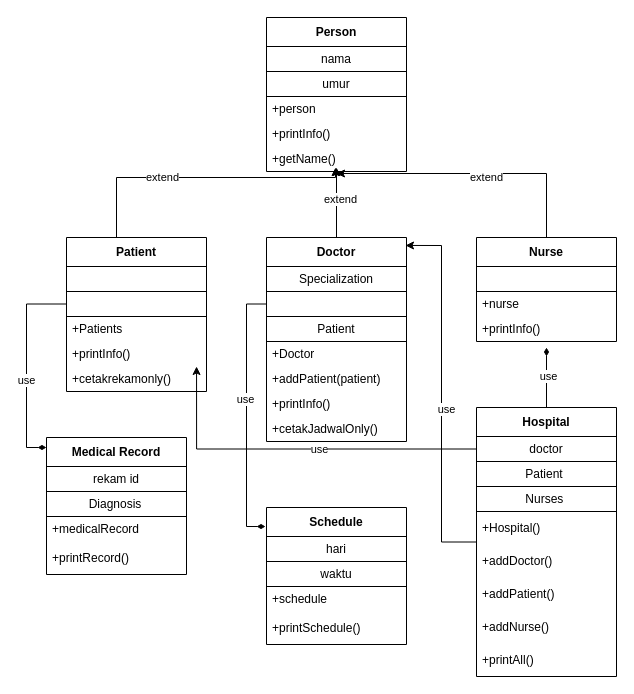
Some shapes in this 634 by 694 pixel diagram are drawn without their labels. The box of each missing label's shape, as (x1, y1, x2, y2) in pixels:
department: (476, 266, 616, 292)
jadwal: (266, 290, 406, 316)
penyakit: (66, 266, 206, 292)
rekam: (66, 290, 206, 316)
